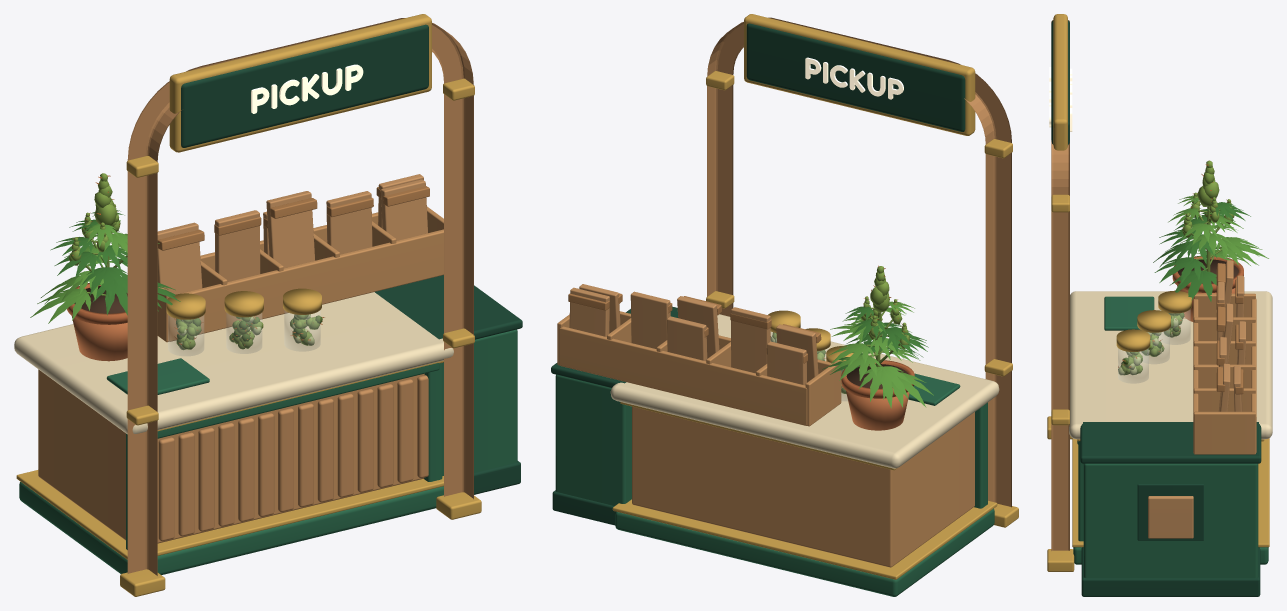
Rendered from pickup_desk_tier1.glb.
3 renders of one model, left to right at view 1: azimuth 30°, elevation 25°; view 2: azimuth 150°, elevation 25°; view 3: azimuth 270°, elevation 25°, orthographic. The views are drawn at different scales.
Visible parts, largest first — view 1: Arch, Top, Body, Sign, CrateSide0.12, Plinth, Cabinet, PlinthBrass, SignBorder, CabinetLip, Bag2, Bag1 (+35 smaller); view 2: Body, Arch, Top, Sign, CrateSide0.40, Cabinet, Plinth, PlinthBrass, SignBorder, Bag1, Bag3, PlantPot (+16 smaller); view 3: Cabinet, Top, Arch, CabinetLip, CabinetKick, CrateDiv5, SignBorder, PlinthBrass, EndBox, EndRecess, Mat, CrateDiv4 (+31 smaller).
Boxes of the visible parts, box(x1,y1,x2,y2) form: Arch: box(127, 18, 473, 575); Top: box(14, 292, 453, 434); Body: box(38, 369, 424, 543); Sign: box(181, 24, 428, 147); CrateSide0.12: box(169, 229, 443, 341); Plinth: box(19, 482, 443, 574); Cabinet: box(442, 329, 517, 475); PlinthBrass: box(16, 470, 443, 559); SignBorder: box(169, 14, 431, 152); CabinetLip: box(375, 275, 522, 339); Bag2: box(266, 191, 315, 268); Bag1: box(215, 210, 260, 281); Body: box(632, 406, 974, 567); Arch: box(707, 17, 1011, 507); Top: box(610, 314, 999, 468); Sign: box(746, 23, 965, 131); CrateSide0.40: box(559, 326, 807, 425); Cabinet: box(555, 374, 631, 505); Plinth: box(615, 508, 994, 596); PlinthBrass: box(612, 499, 997, 579); SignBorder: box(744, 14, 975, 135); Bag1: box(731, 307, 770, 373); Bag3: box(630, 291, 670, 348); PlantPot: box(846, 391, 909, 430); Cabinet: box(1083, 463, 1258, 578); Top: box(1069, 291, 1272, 439); Arch: box(1051, 20, 1069, 550); CabinetLip: box(1080, 422, 1261, 463); CabinetKick: box(1081, 547, 1260, 596); CrateDiv5: box(1193, 411, 1255, 454); SignBorder: box(1053, 14, 1067, 150); PlinthBrass: box(1072, 438, 1269, 547); EndBox: box(1148, 496, 1193, 538); EndRecess: box(1137, 484, 1203, 540); Mat: box(1104, 296, 1154, 330); CrateDiv4: box(1193, 388, 1255, 411).
Size of the model in its own units: 1.96 by 2.3 by 1.09.
